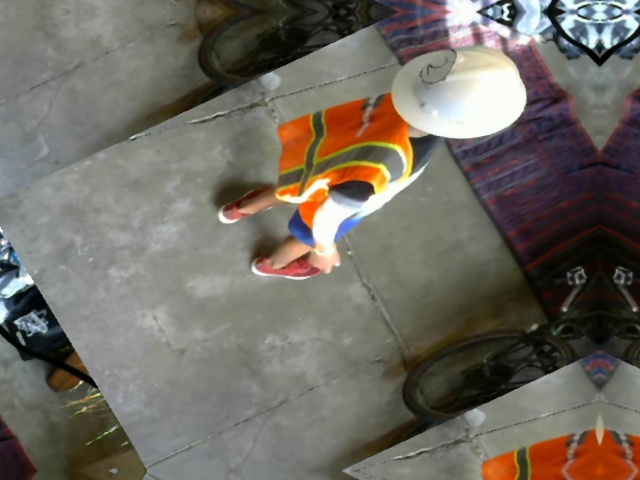two: (413, 46, 467, 87)
